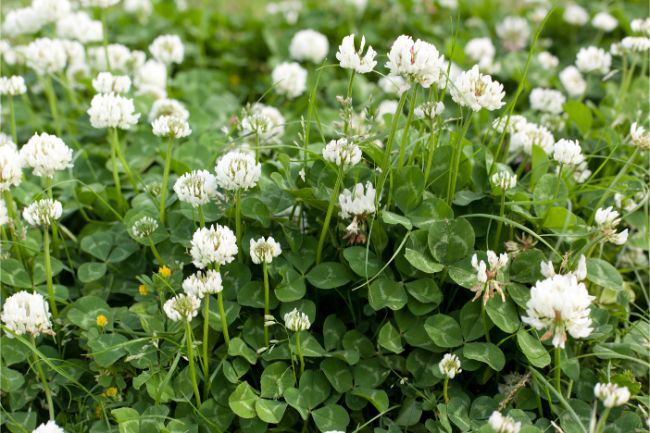clover: (4, 4, 639, 430)
